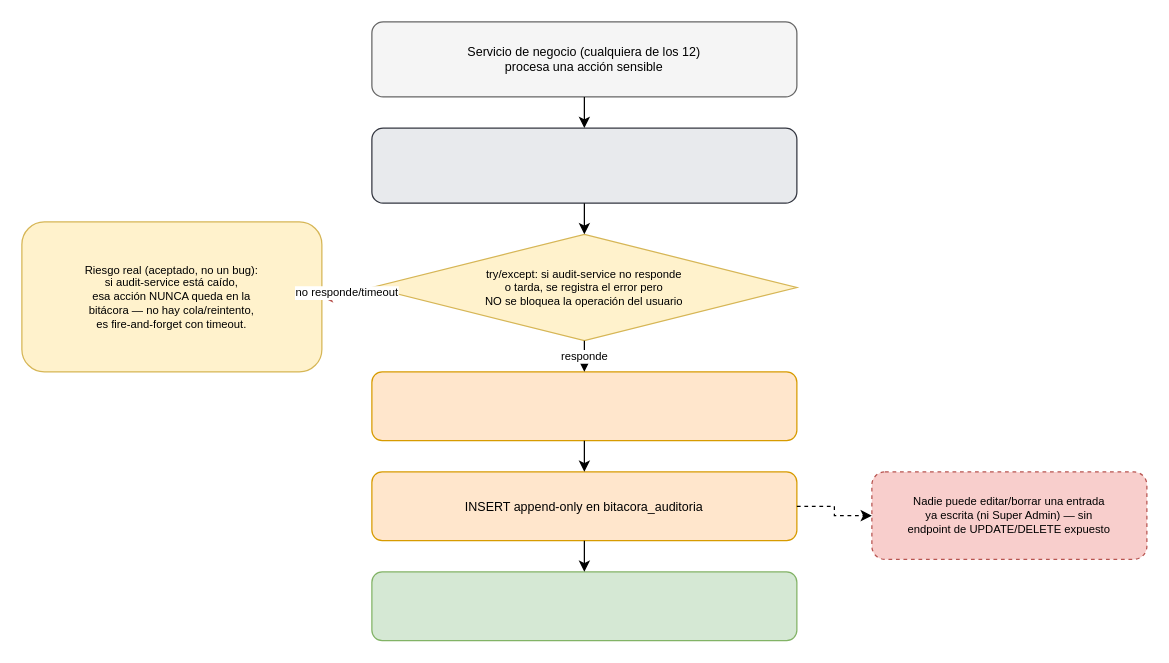
The diagram is 1169 pixels wide and 663 high, and some of its shapes have lost their labels. The shapes that lost their labels are listed below. From the top down, each one's centre as x and y in pixels, then its label:
the point at 584,165: Llama SÍNCRONO a audit-service (requests.post, timeout corto)
the point at 584,406: audit-service recibe la petición
the point at 584,606: Visor de bitácora (iam-service/Admin): filtrable, exportable a CSV
